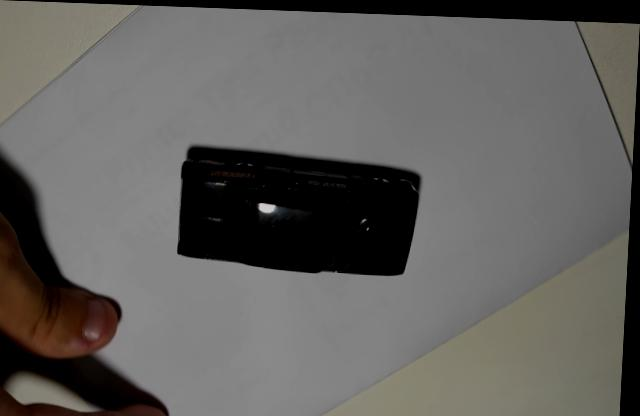01_FORD: (179, 146, 424, 273)
